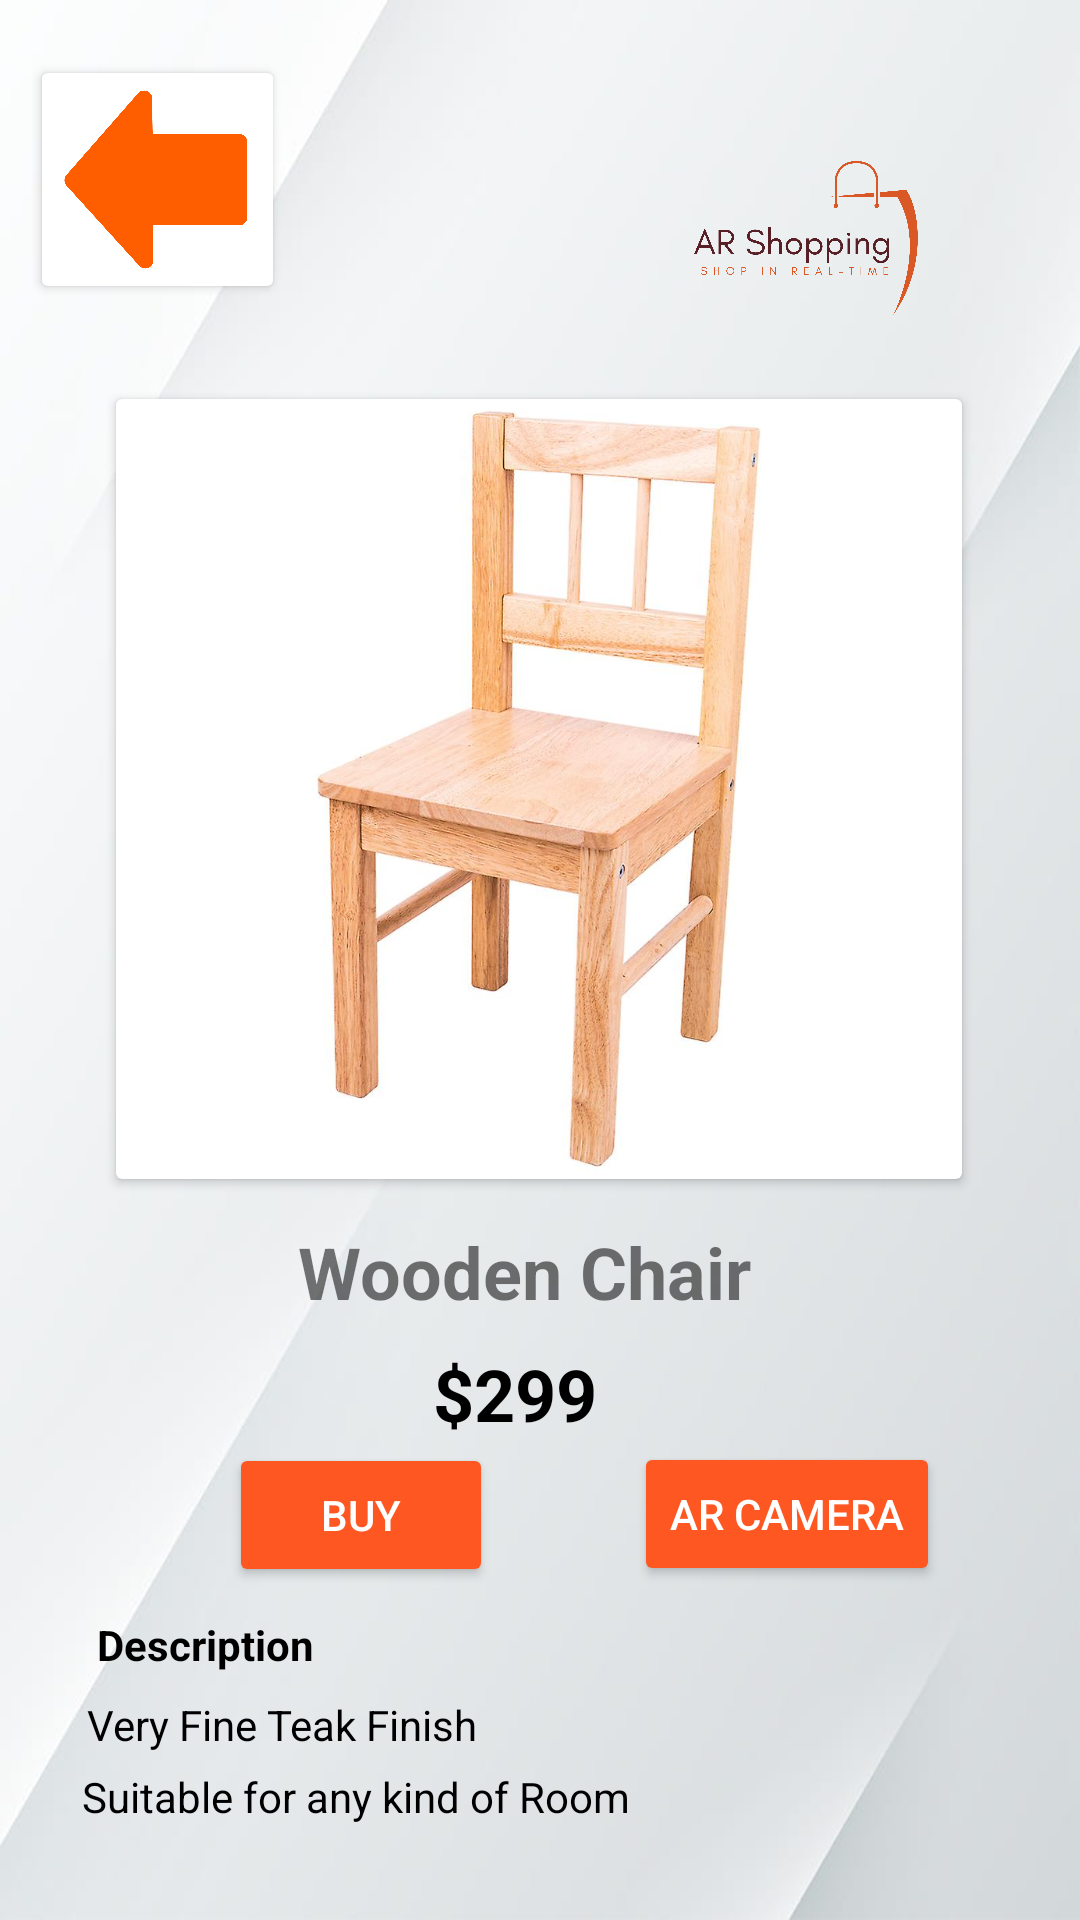

Icons on this 1080 × 1920 Android screen, each with the point to tap as [x,y]:
arrowl: [155,179]
